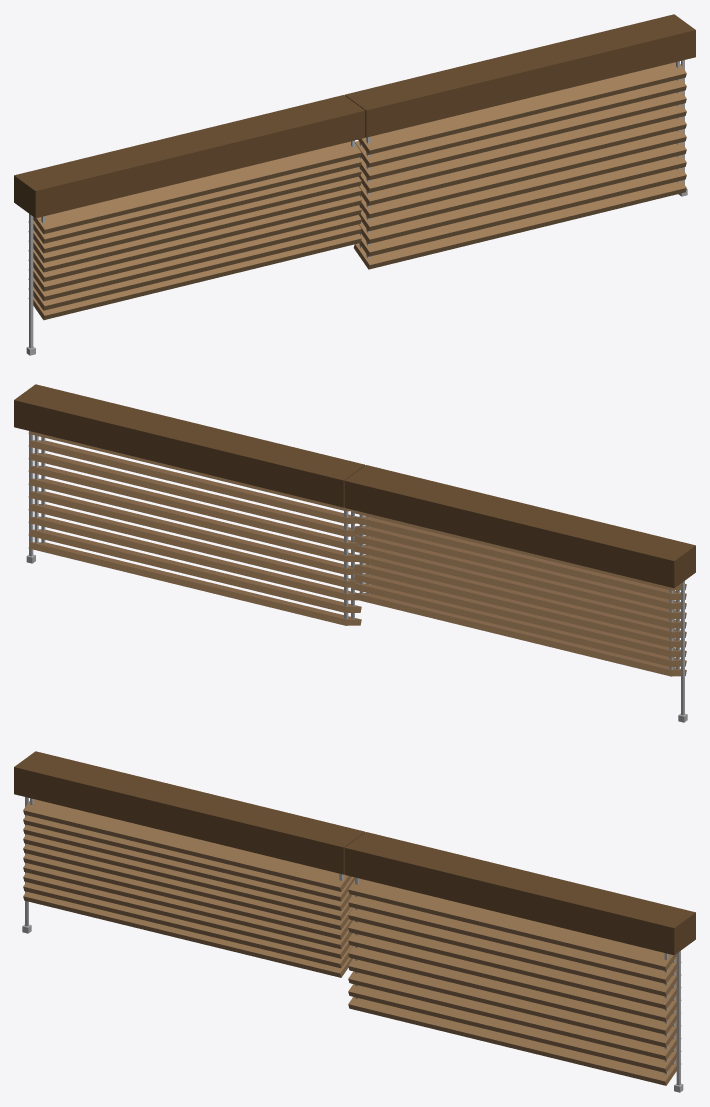
The model's file is Curtains15_C3.fbx.
The picture shows the model from 3 angles, top to bottom: view 1: azimuth 30°, elevation 25°; view 2: azimuth 150°, elevation 25°; view 3: azimuth 330°, elevation 25°; orthographic projection.
Parts seen in each view (by area): view 1: Curtains15_C3; view 2: Curtains15_C3; view 3: Curtains15_C3.
Boxes of the visible parts, box(x1,y1,x2,y2) form: Curtains15_C3: box(14, 14, 695, 355); Curtains15_C3: box(14, 384, 695, 722); Curtains15_C3: box(14, 751, 695, 1092).
Size of the model in its own units: 223 by 54.95 by 12.67.
